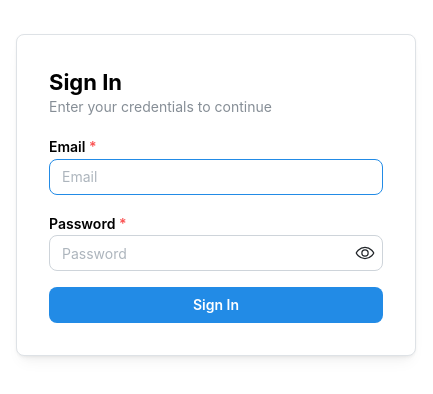
Scenario: LoginPage › displays error message on failed login
Type "test@example.com" into the field with placeholder "Email" at (216,176), box [49, 158, 383, 194]
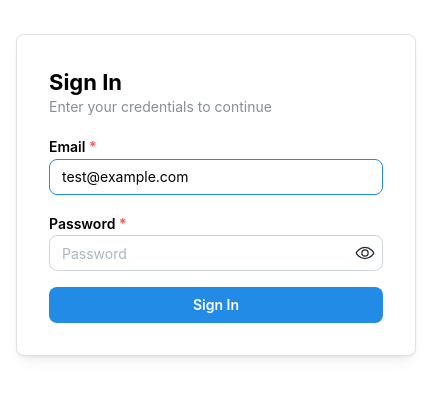
Type "wrong" into the password field with placeholder "Password" at (216,253), box [50, 236, 382, 270]
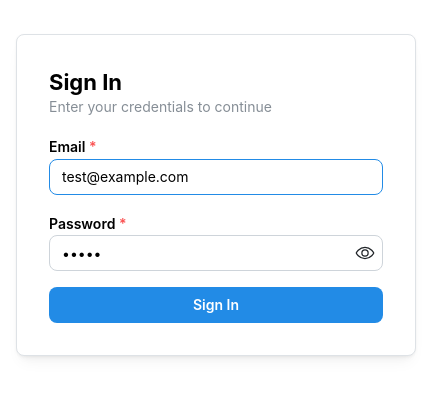
Click the button "Sign In" at (216,305), box [49, 287, 383, 323]
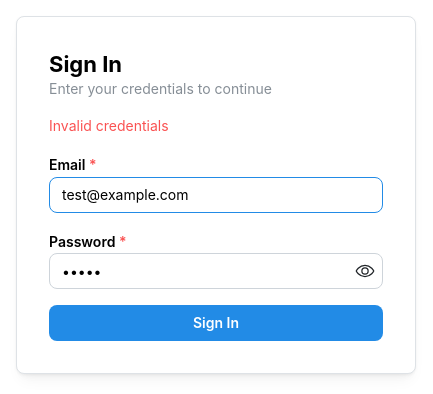
Check: the text "Invalid credentials" is shown, box [49, 117, 169, 134]
